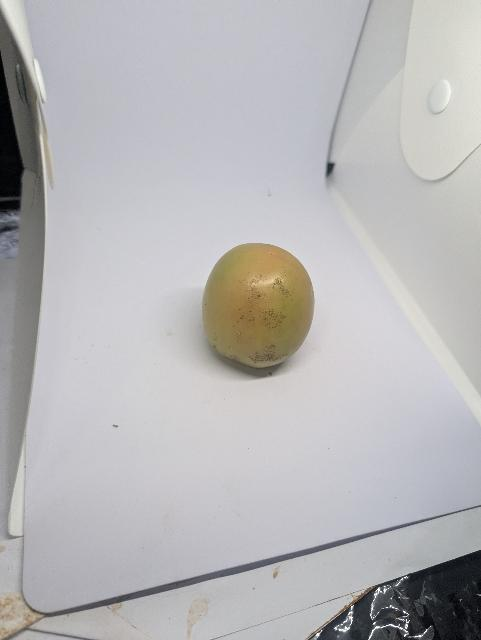breaker: (198, 239, 325, 375)
